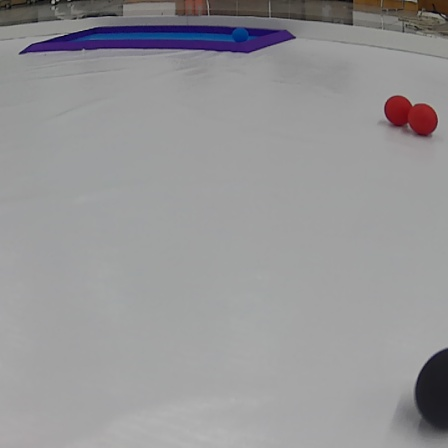black: (412, 341, 448, 431)
blue: (231, 27, 252, 41)
blue_aim: (21, 27, 294, 53)
red: (407, 102, 437, 133), (384, 95, 411, 124)
